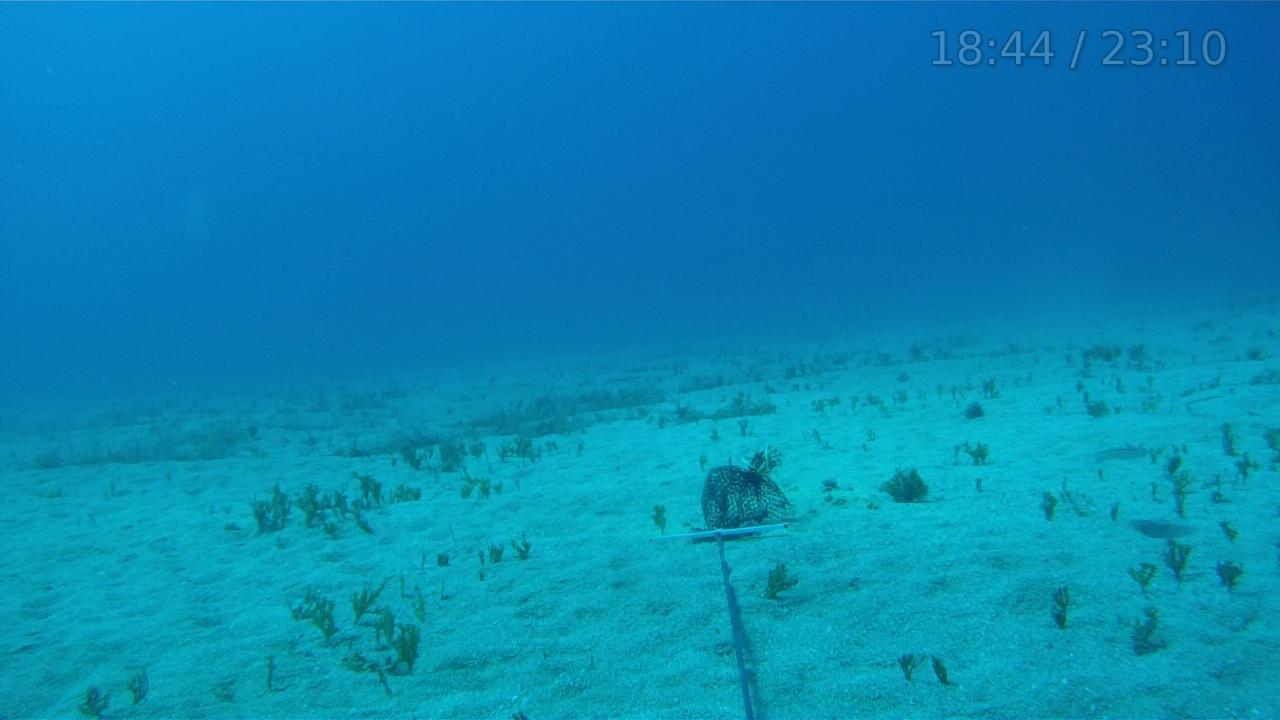bothus: (1072, 441, 1142, 468), (1124, 509, 1186, 532)
